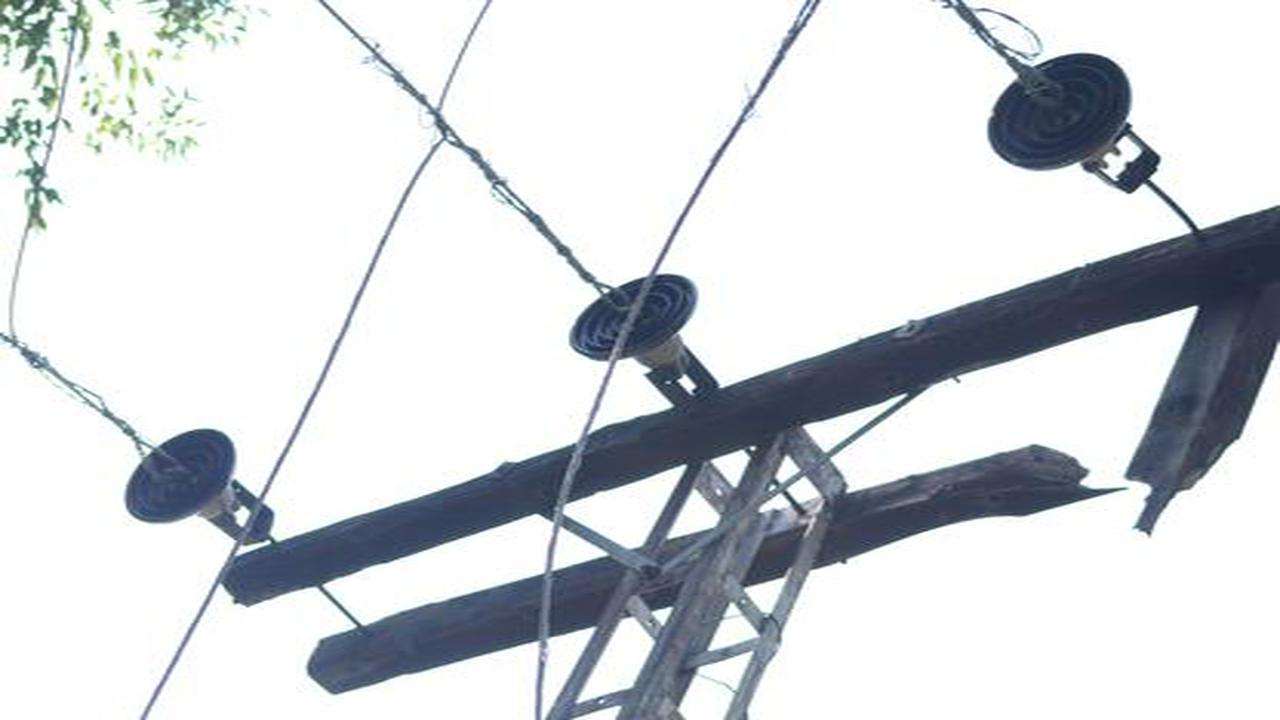insulator_disc: (985, 52, 1137, 177), (122, 423, 253, 534), (563, 269, 704, 368)
